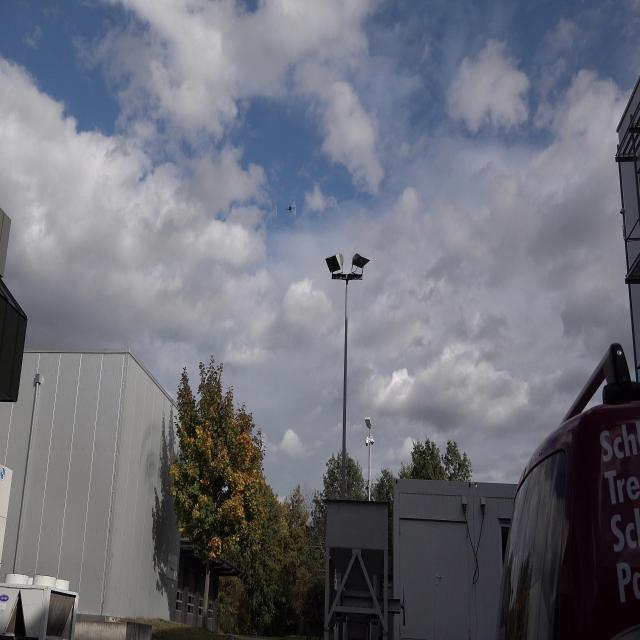drone: (277, 199, 296, 219)
